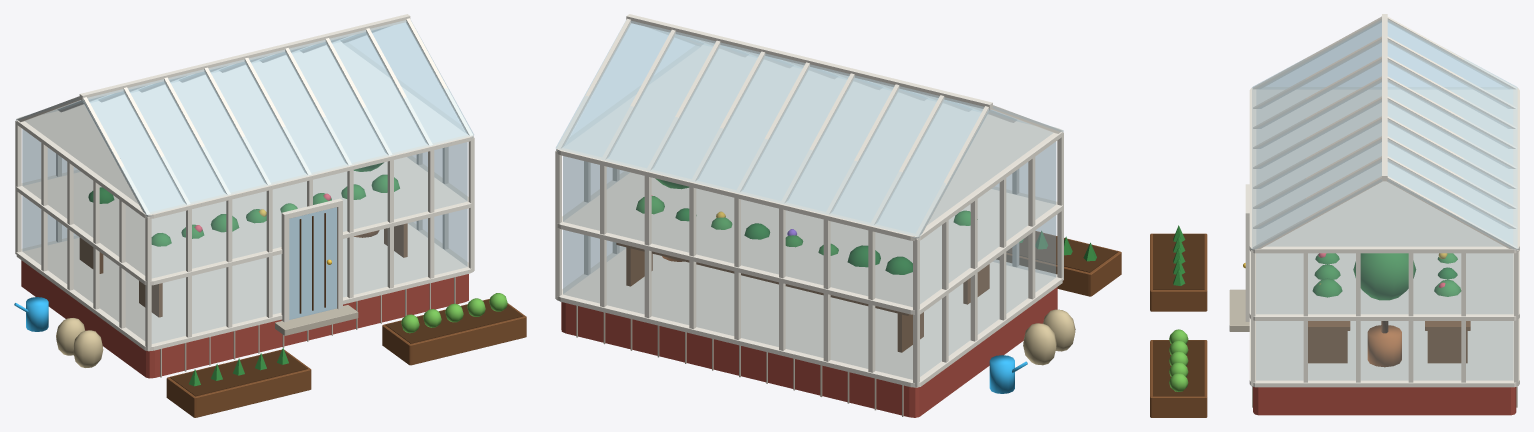
The model's file is sklenik.glb.
The picture shows the model from 3 angles, left to right: view 1: azimuth 30°, elevation 25°; view 2: azimuth 150°, elevation 25°; view 3: azimuth 270°, elevation 25°; orthographic projection. The views are drawn at different scales.
Parts seen in each view (by area): view 1: sklenik; view 2: sklenik; view 3: sklenik.
Boxes of the visible parts, x1,y1,x2,y2 form: sklenik: [14, 14, 526, 417]; sklenik: [555, 14, 1121, 417]; sklenik: [1150, 14, 1519, 417].
Size of the model in its own units: 7.76 by 4.71 by 6.46.
2 materials, 2 textured.
